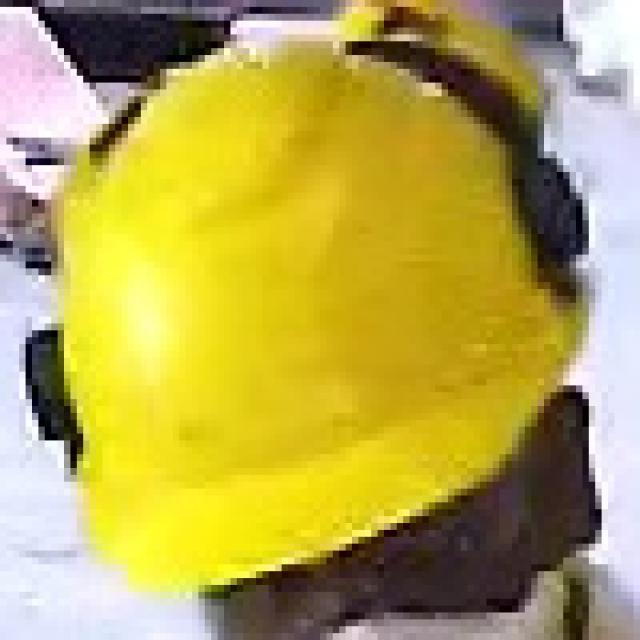yellow helmet: (34, 1, 621, 609)
